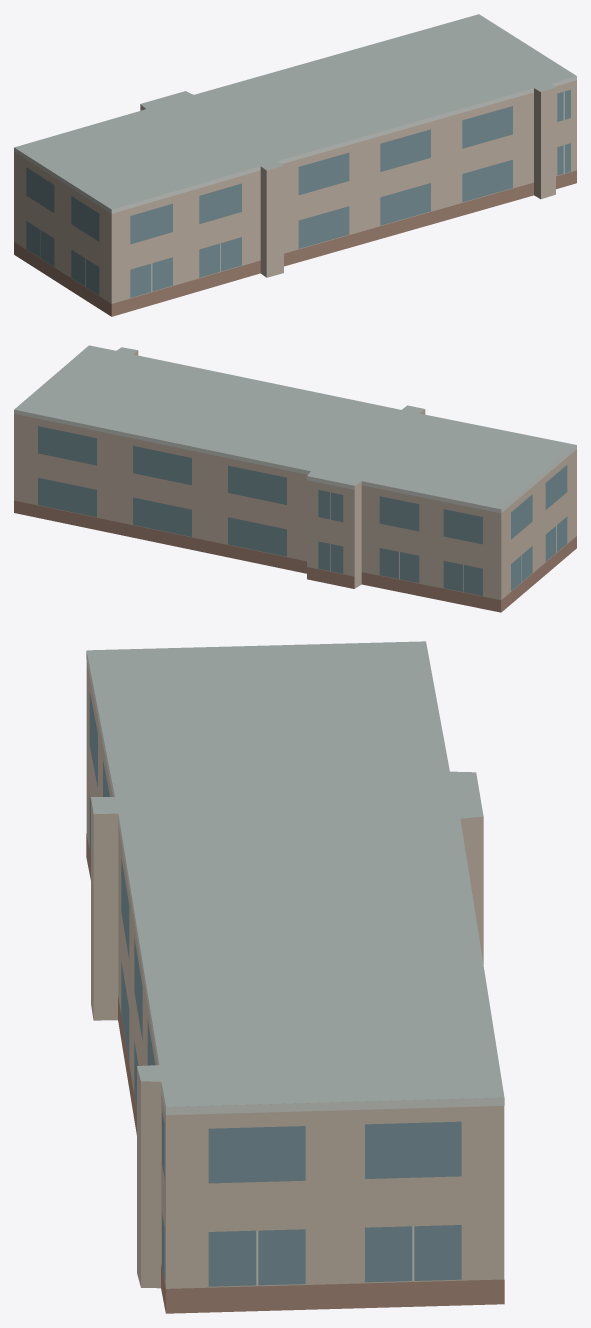
File: survey-upis-32623215.glb
The picture shows the model from 3 angles, top to bottom: view 1: azimuth 30°, elevation 25°; view 2: azimuth 150°, elevation 25°; view 3: azimuth 270°, elevation 25°; orthographic projection. The views are drawn at different scales.
Parts seen in each view (by area): view 1: survey-upis-32623215.tmp; view 2: survey-upis-32623215.tmp; view 3: survey-upis-32623215.tmp.
Part boxes in pixels (bbox=[...]): survey-upis-32623215.tmp: bbox=[14, 14, 576, 316]; survey-upis-32623215.tmp: bbox=[14, 345, 576, 612]; survey-upis-32623215.tmp: bbox=[86, 641, 504, 1313].
Size of the model in its own units: 29.5 by 6.1 by 11.2.
